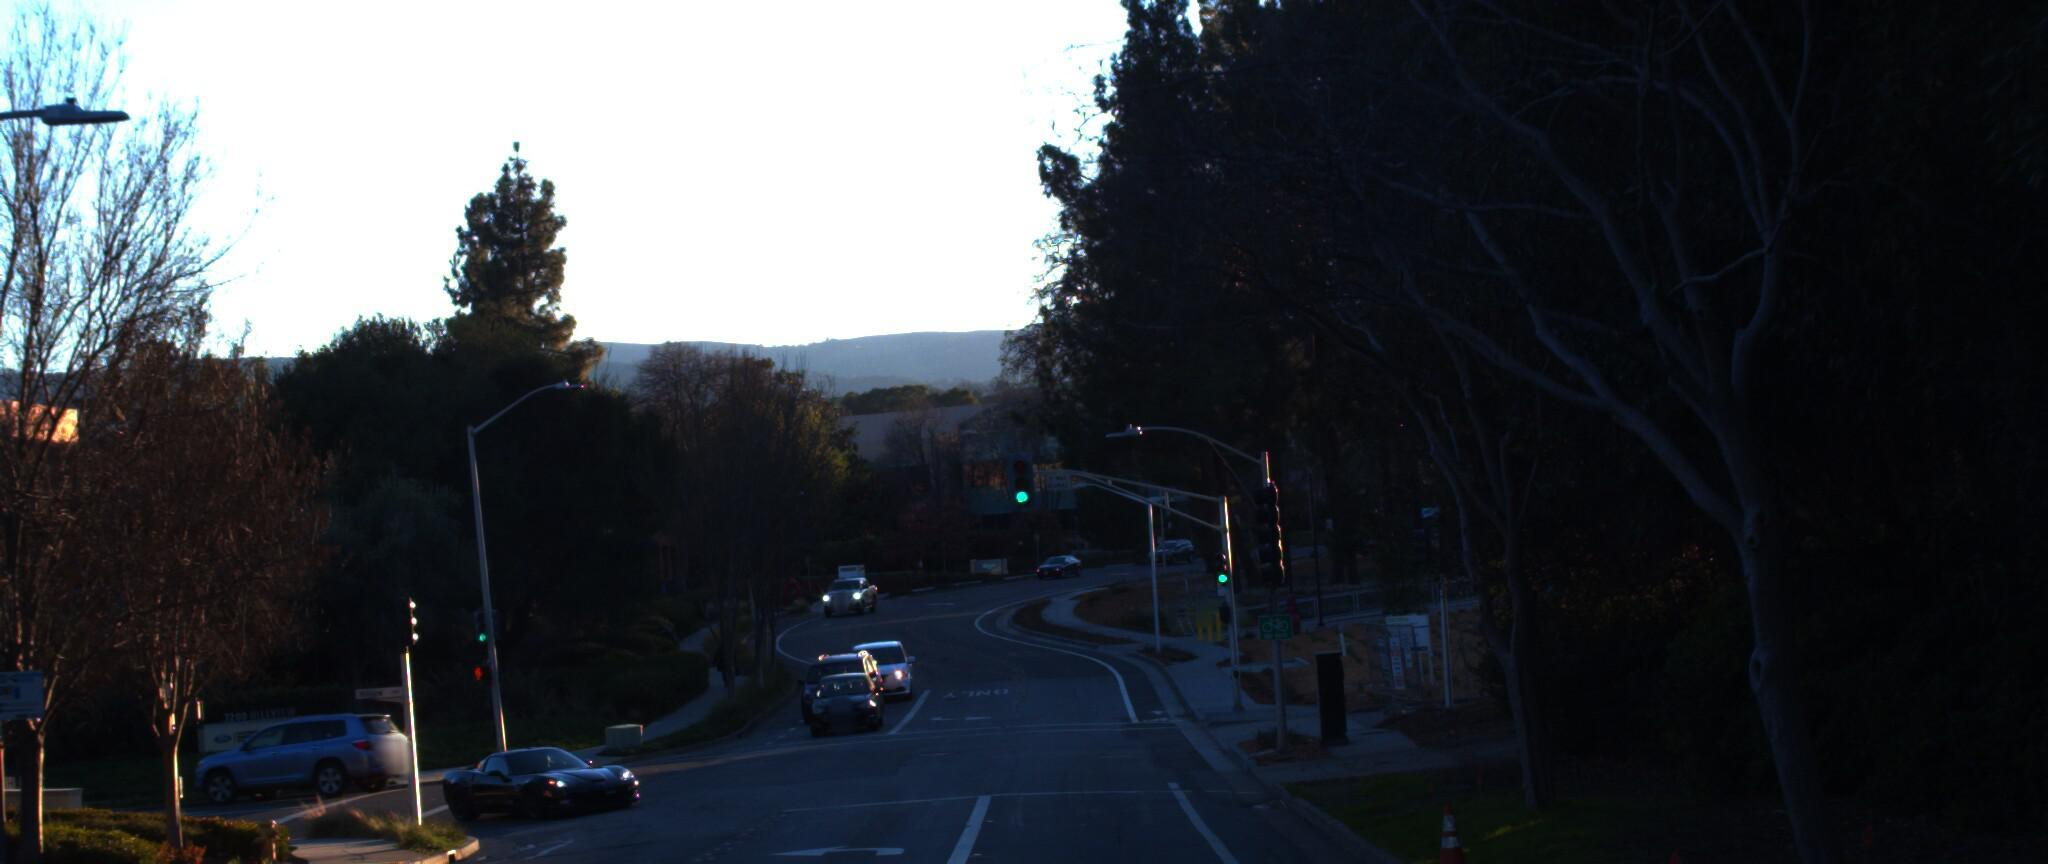car: (178, 702, 426, 807), (444, 726, 670, 809), (799, 660, 888, 735)
